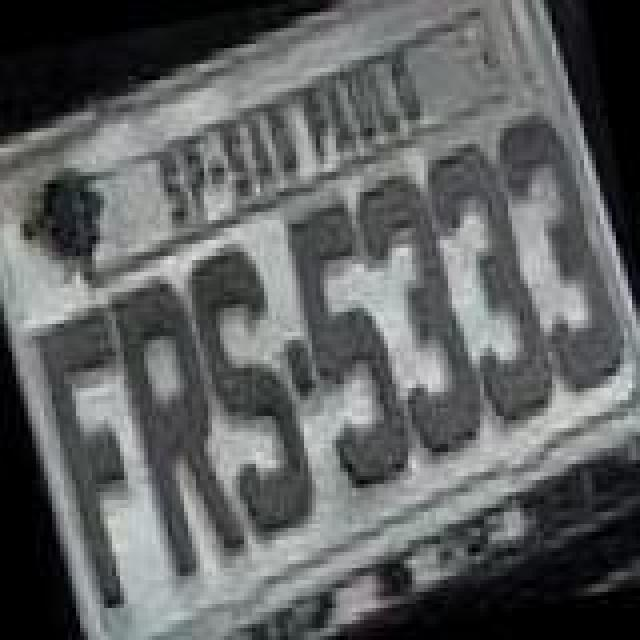3: (416, 134, 560, 434), (348, 168, 492, 464), (488, 108, 632, 404)
5: (284, 192, 420, 496)
F: (30, 306, 162, 614)
R: (104, 272, 248, 584)
S: (182, 242, 322, 542)
